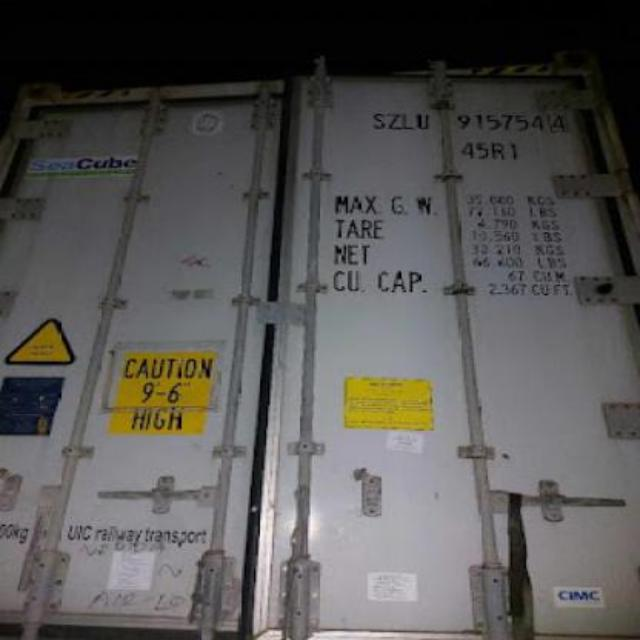1: (472, 108, 486, 134)
4: (546, 106, 566, 136), (530, 108, 544, 140)
5: (516, 108, 530, 136), (486, 108, 499, 134)
7: (500, 108, 512, 136)
9: (456, 108, 469, 132)
L: (400, 107, 416, 137)
S: (370, 106, 386, 134)
U: (414, 103, 432, 133)
Z: (384, 106, 402, 132)
